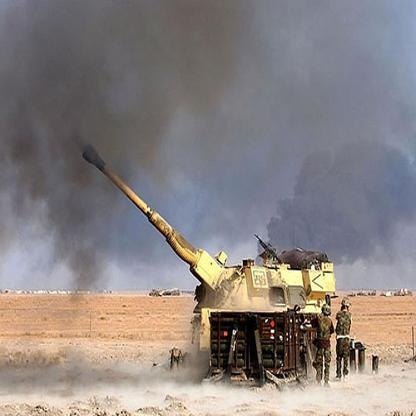Tank: (76, 140, 385, 400)
